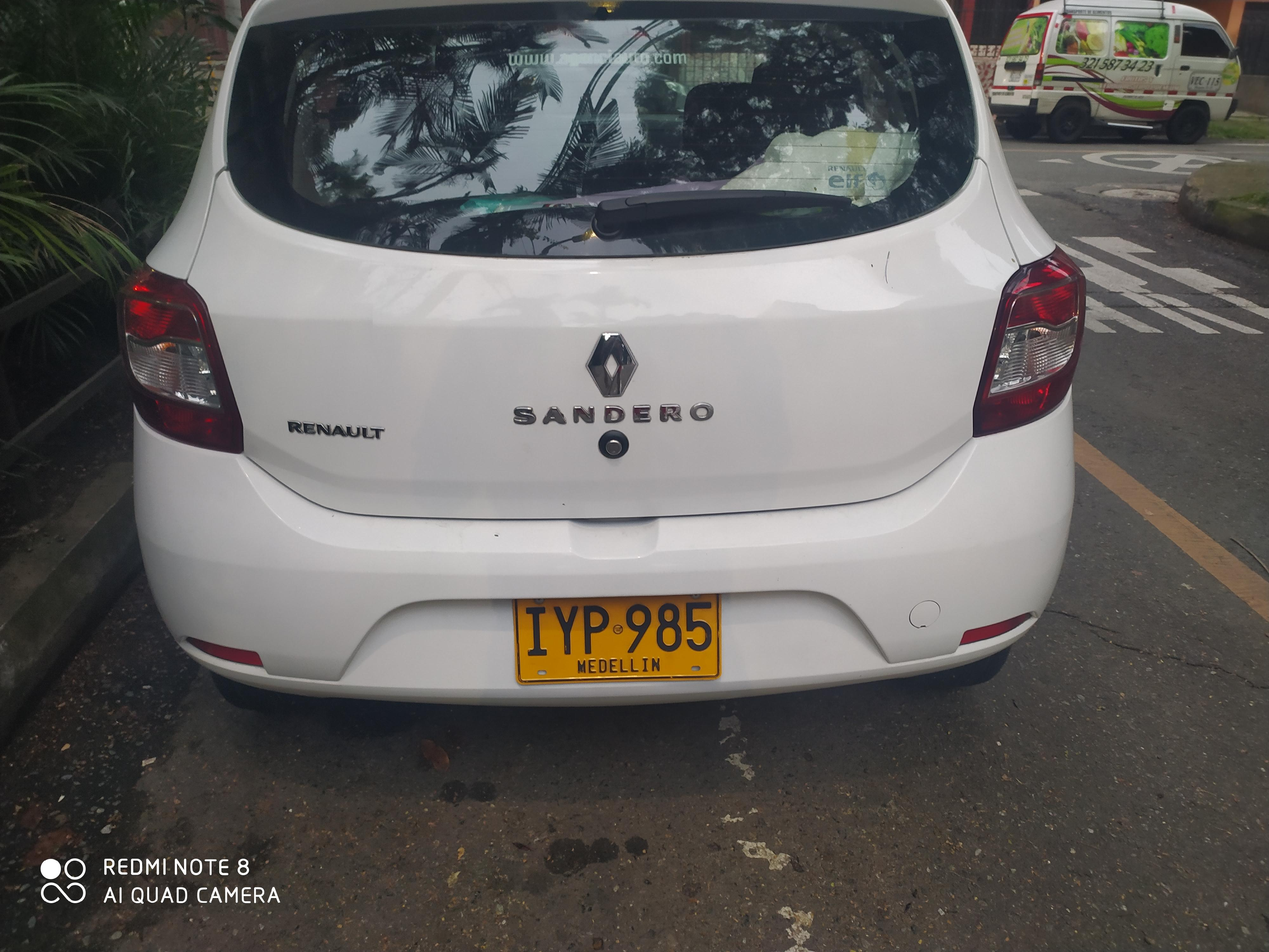placa: (502, 593, 729, 689)
